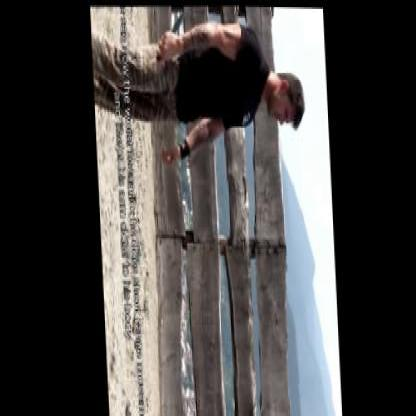knife: (152, 3, 194, 68)
